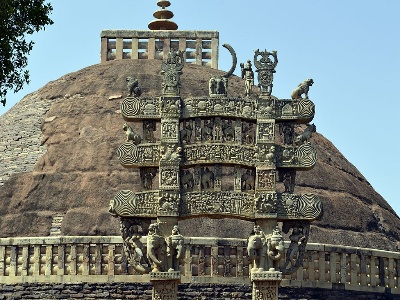torana: (119, 60, 321, 294)
